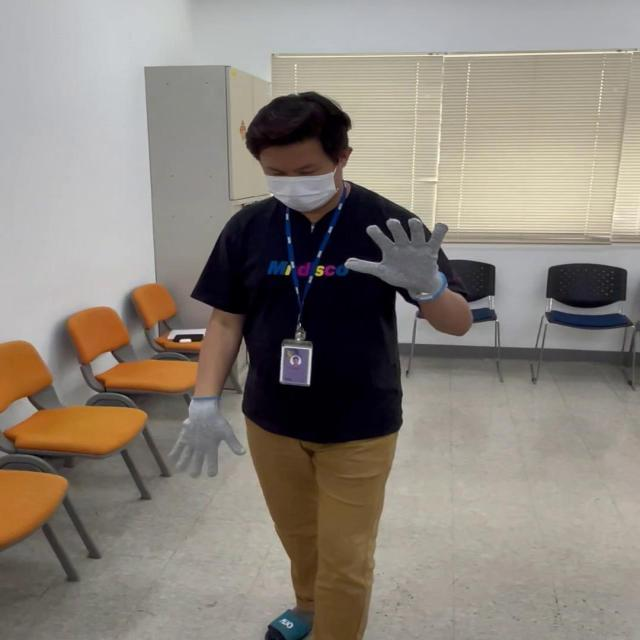gloved_hand: (348, 208, 446, 298), (169, 392, 253, 479)
